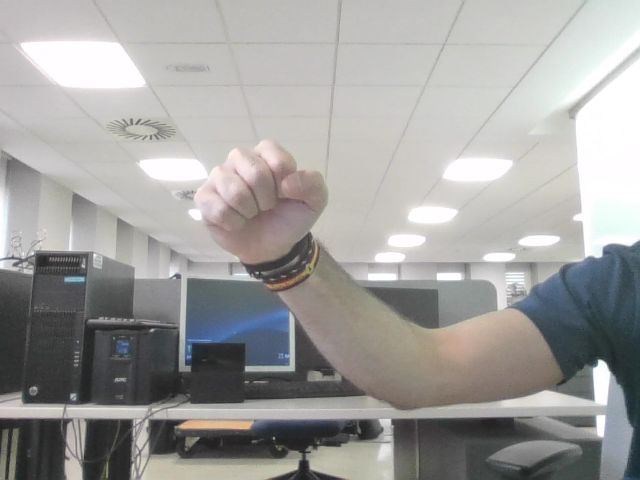Puño: (205, 150, 312, 227)
